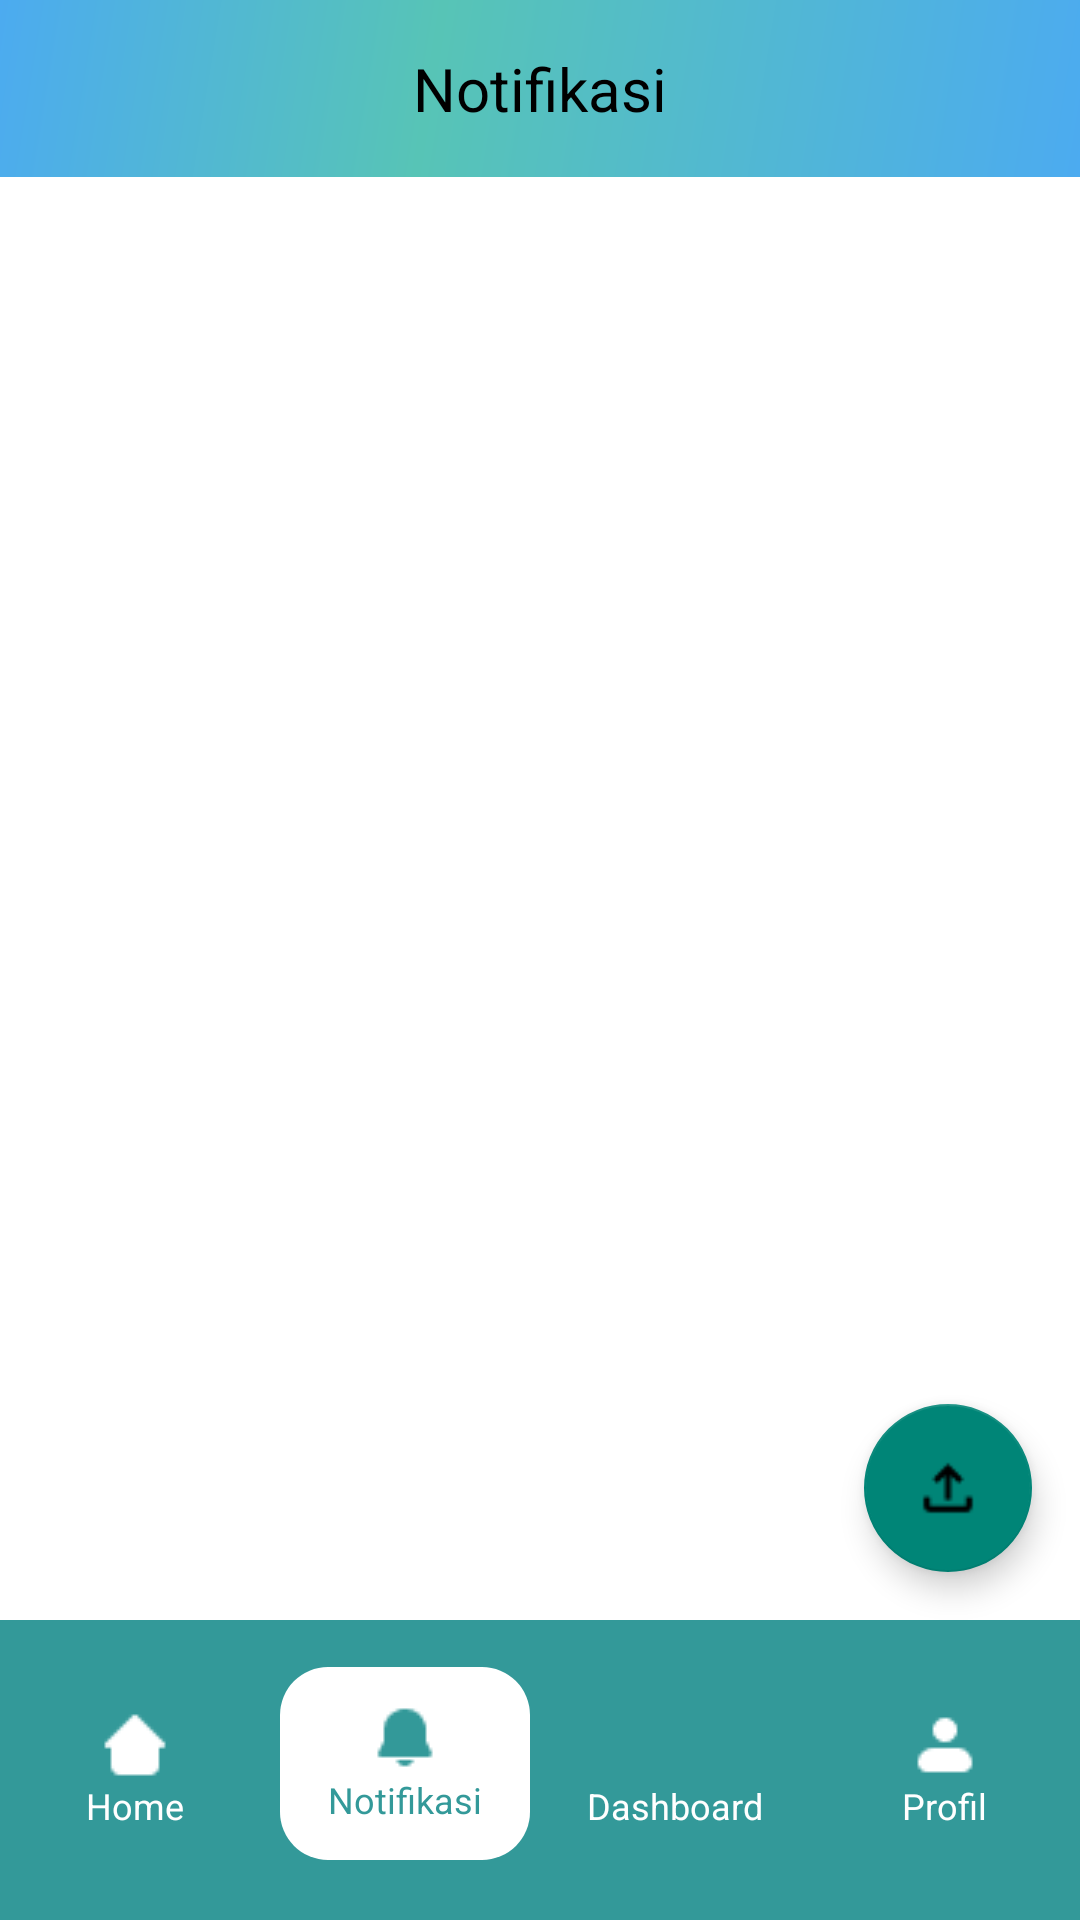

Point at icon controls on the screen. Image size 1080px×1920px, points as [x,y].
upload: [948,1488]
